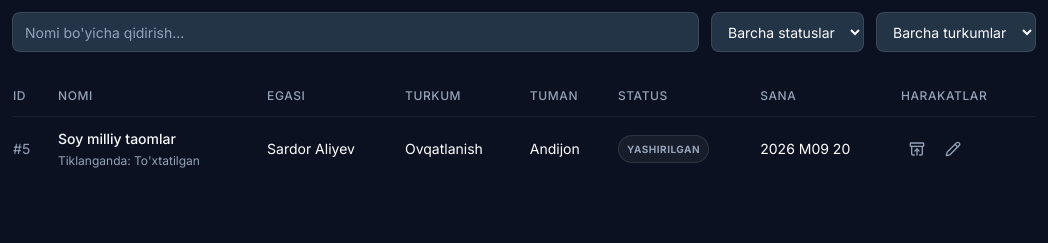
Test: AdminBusinessesView — business operations › shows a SUPER_ADMIN the recorded restore target and restores it
Expected: the text "Soy milliy taomlar" is shown, x1=58 y1=130 x2=176 y2=147
Expected: the text "Tiklanganda: To'xtatilgan" is shown, x1=58 y1=153 x2=200 y2=168
Click the button named "Yashirishni bekor qilish": (917, 149) x1=901 y1=133 x2=933 y2=165
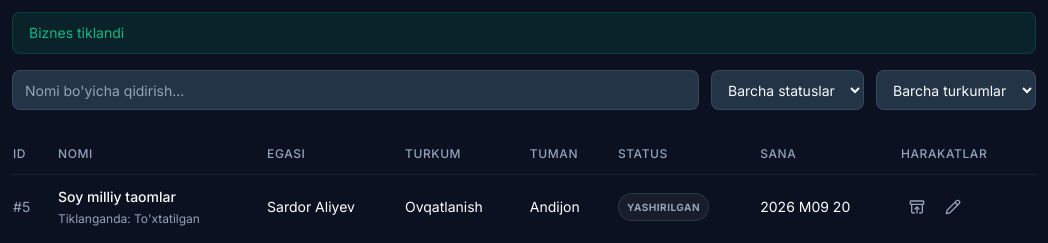
Now the text "Biznes tiklandi" is shown, box x1=12 y1=12 x2=1036 y2=54
